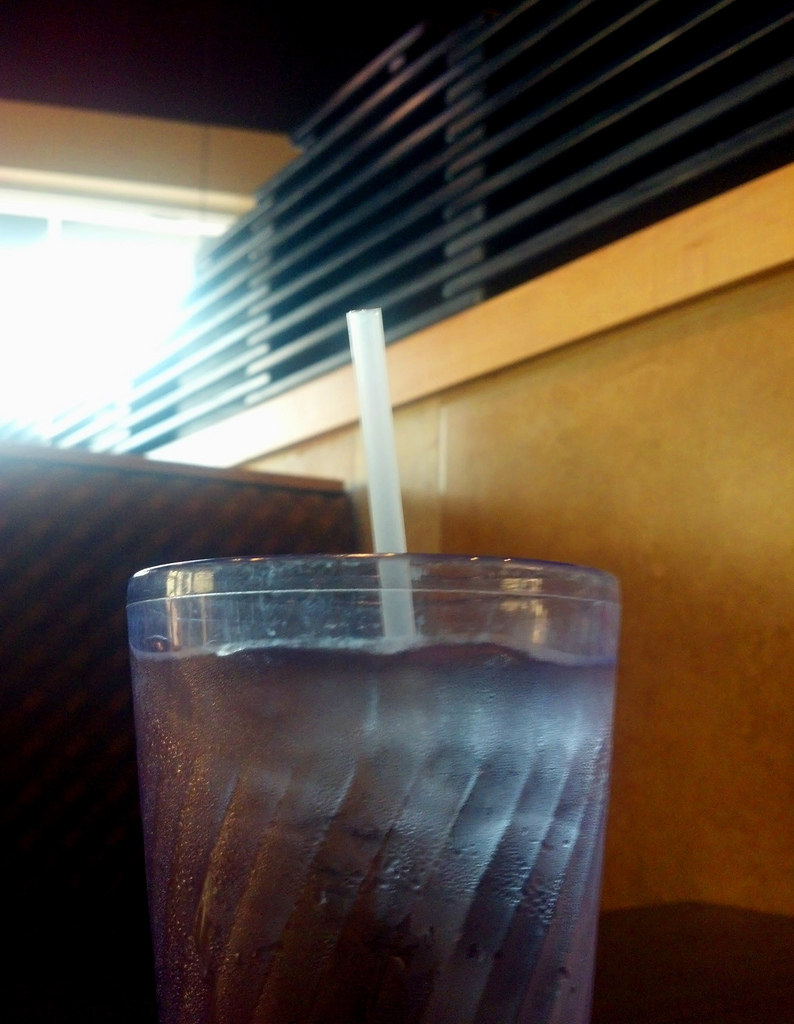glass of water: (127, 560, 620, 1024)
